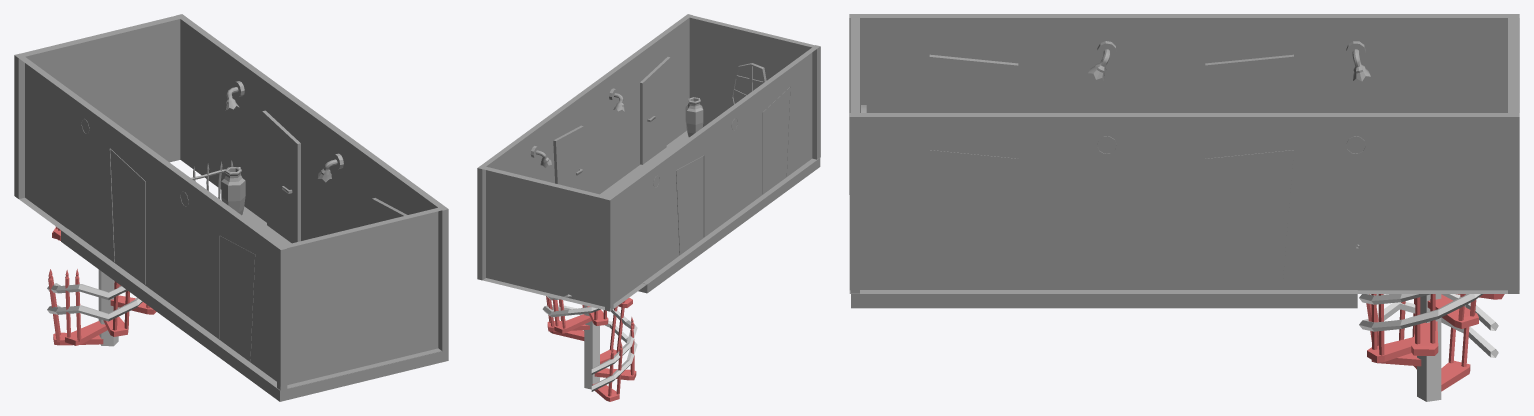
The model's file is couloir_piece.fbx.
The picture shows the model from 3 angles, left to right: view 1: azimuth 30°, elevation 25°; view 2: azimuth 150°, elevation 25°; view 3: azimuth 270°, elevation 25°; orthographic projection. The views are drawn at different scales.
Parts seen in each view (by area): view 1: couloir_mur_R, couloir_mur_L, couloir_mur_fenetre, couloir_mur_escalier, couloir_sol, Escalier2, porte_chambre04, pot04, porte_chambre03; view 2: couloir_mur_R, couloir_mur_escalier, couloir_mur_L, couloir_mur_fenetre, Escalier2, couloir_sol, porte_chambre03, porte_chambre04, fenetre09, pot03; view 3: couloir_mur_L, couloir_mur_R, couloir_sol, Escalier2, porte_chambre02, porte_chambre01, couloir_mur_escalier, couloir_mur_fenetre.
Part boxes in pixels (bbox=[...]): couloir_mur_R: bbox=[19, 53, 287, 390]; couloir_mur_L: bbox=[176, 14, 448, 351]; couloir_mur_fenetre: bbox=[277, 206, 447, 390]; couloir_mur_escalier: bbox=[14, 14, 186, 198]; couloir_sol: bbox=[61, 206, 448, 401]; Escalier2: bbox=[47, 226, 156, 346]; porte_chambre04: bbox=[262, 110, 300, 243]; pot04: bbox=[221, 167, 245, 215]; porte_chambre03: bbox=[372, 198, 407, 223]; couloir_mur_R: bbox=[605, 45, 820, 311]; couloir_mur_escalier: bbox=[478, 165, 613, 311]; couloir_mur_L: bbox=[477, 14, 692, 280]; couloir_mur_fenetre: bbox=[685, 14, 819, 159]; Escalier2: bbox=[542, 294, 637, 401]; couloir_sol: bbox=[600, 131, 820, 293]; porte_chambre03: bbox=[640, 57, 670, 164]; porte_chambre04: bbox=[553, 125, 583, 190]; fenetre09: bbox=[731, 63, 766, 105]; pot03: bbox=[685, 97, 703, 137]; couloir_mur_L: bbox=[849, 113, 1519, 293]; couloir_mur_R: bbox=[849, 14, 1519, 194]; couloir_sol: bbox=[851, 290, 1357, 308]; Escalier2: bbox=[1359, 294, 1504, 401]; porte_chambre02: bbox=[929, 54, 1018, 112]; porte_chambre01: bbox=[1205, 54, 1293, 112]; couloir_mur_escalier: bbox=[1508, 14, 1519, 293]; couloir_mur_fenetre: bbox=[850, 14, 859, 293].
Bounding box in the file's own units: 323 × 505 × 885.
